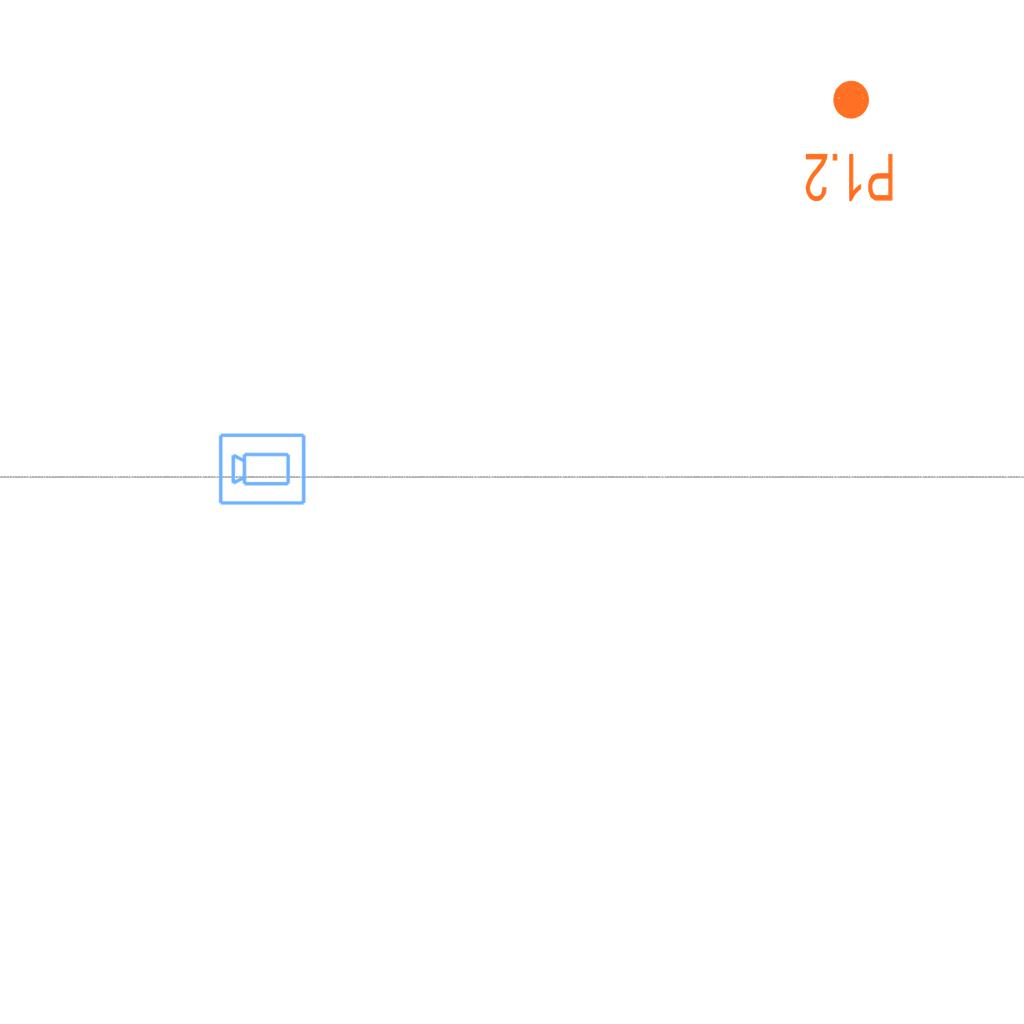Downlight_LED_Einbauleuchten_Flur: (803, 77, 896, 205)
KFO_Kamera_mit_Festobjektiv: (217, 430, 308, 507)
